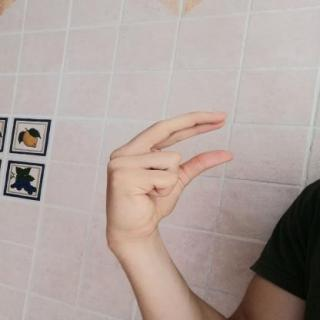DHELL: (99, 104, 242, 240)
